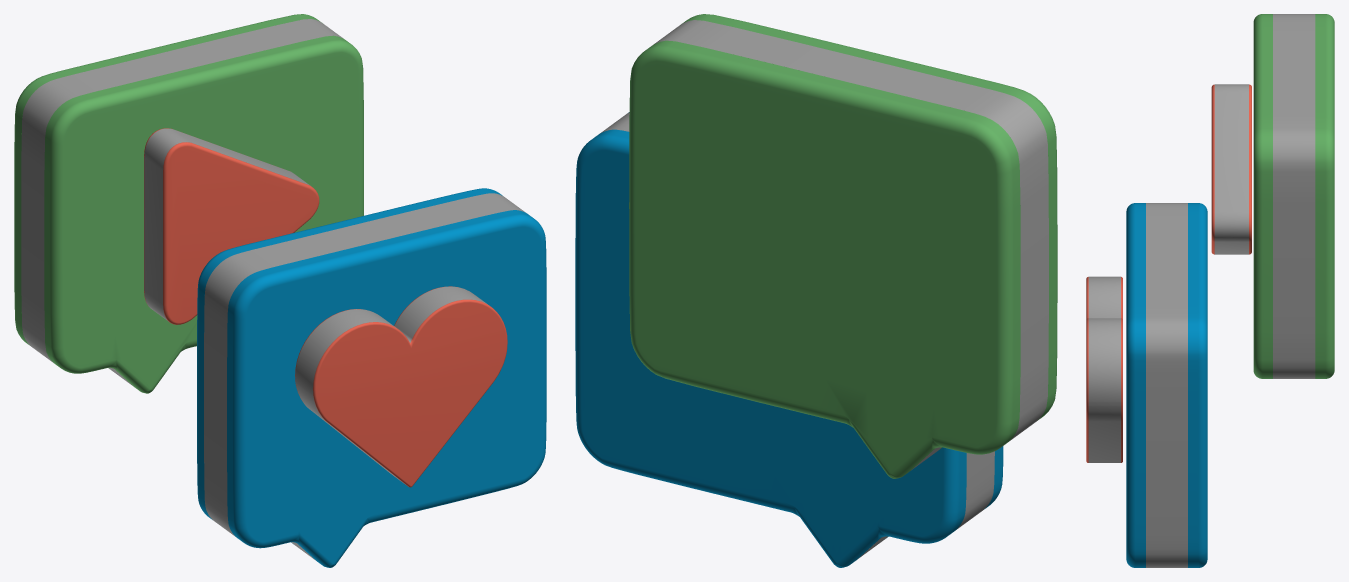
The model's file is social-media-3d-animated-icon-452474391429.glb.
3 views of the same model, side by side, from view 1: azimuth 30°, elevation 25°; view 2: azimuth 150°, elevation 25°; view 3: azimuth 270°, elevation 25° (orthographic). The views are drawn at different scales.
Parts seen in each view (by area): view 1: Plane.006, Plane.005, Curve.001, Curve; view 2: Plane.005, Plane.006; view 3: Plane.006, Plane.005, Curve, Curve.001.
Boxes of the visible parts, x1,y1,x2,y2 form: Plane.006: (197,188,546,567); Plane.005: (14,14,363,393); Curve.001: (295,286,507,487); Curve: (144,128,319,324); Plane.005: (629,14,1057,478); Plane.006: (575,112,1003,567); Plane.006: (1126,203,1207,567); Plane.005: (1253,14,1334,378); Curve: (1211,84,1251,254); Curve.001: (1086,276,1122,462).
Size of the model in its own units: 1.51 by 1.55 by 0.8321.
